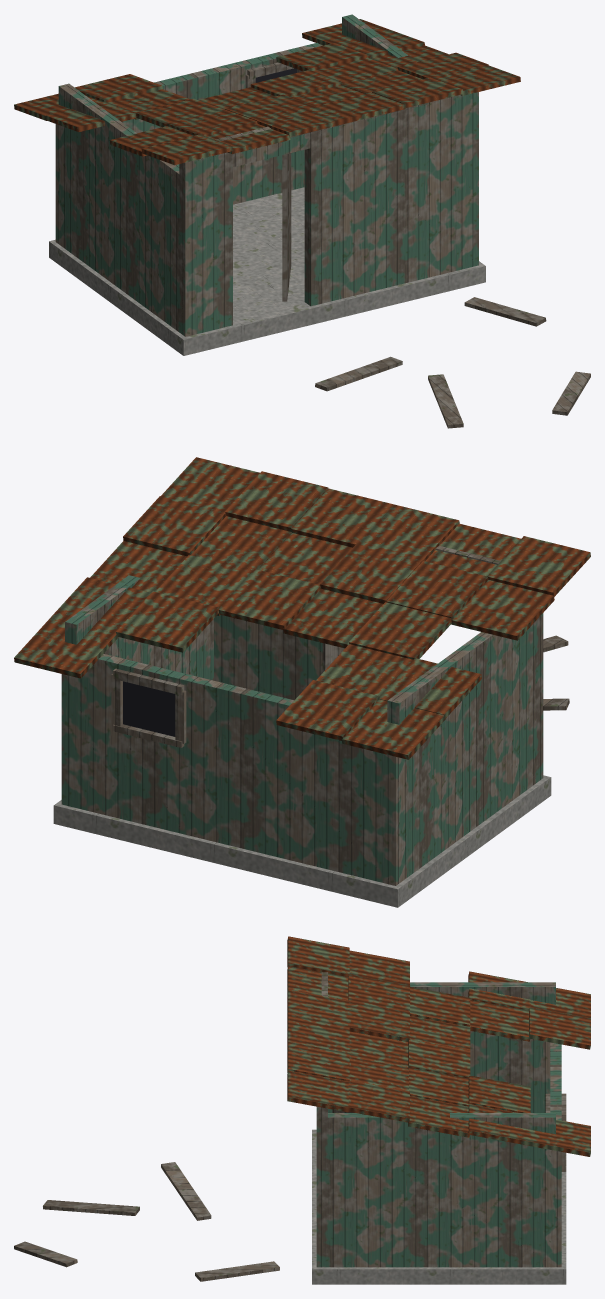
Rendered from shed_green.glb.
3 views of the same model, one above another, from view 1: azimuth 30°, elevation 25°; view 2: azimuth 150°, elevation 25°; view 3: azimuth 270°, elevation 25° (orthographic). The views are drawn at different scales.
Parts seen in each view (by area): view 1: shed_green; view 2: shed_green; view 3: shed_green.
Part boxes in pixels (x1=…): shed_green: x1=14, y1=14, x2=590, y2=428; shed_green: x1=14, y1=457, x2=590, y2=907; shed_green: x1=14, y1=936, x2=590, y2=1284.
Bounding box in the file's own units: 4.01 × 2.36 × 6.12.
5 materials, 4 textured.
